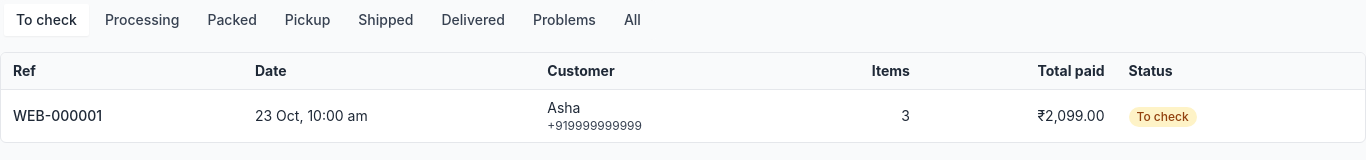
Test: shows a returns badge on a partly returned order
Expected: the text "WEB-000001" is shown, [1,90,243,142]
Step 1. Click the tab "All" → [632, 20], box [612,4,653,36]
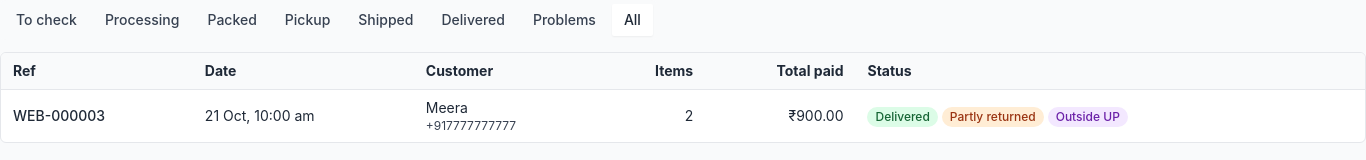
Result: the row "WEB-000003" shows "Partly returned" at [950,108,1036,124]
